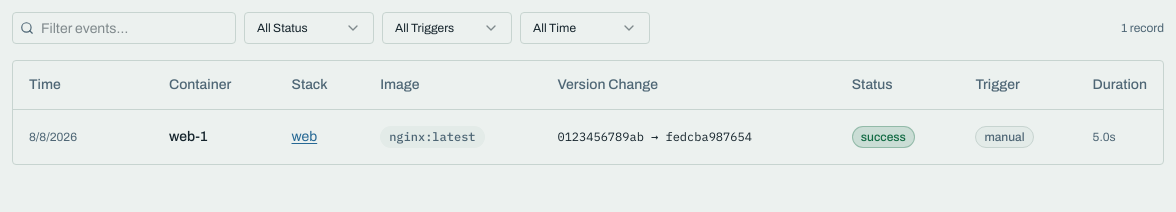
Test: UpdateLogTab — filters › says so when the free-text filter matches nothing
The image size is (1176, 212).
In the field with placeholder "Filter events…": {"x": 124, "y": 28} left=12, top=12, right=236, bottom=44, type "zzz"
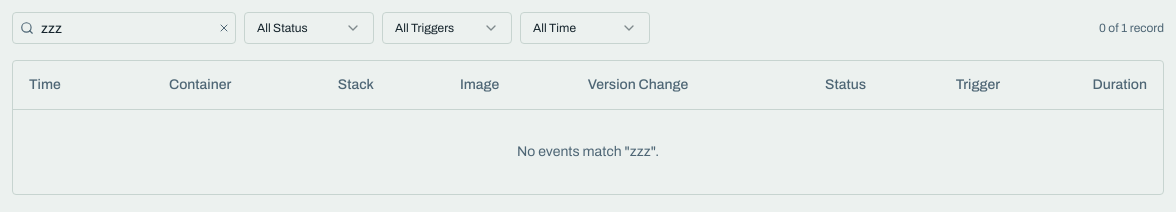
Expected: the text "No events match \"zzz\"." is shown, left=13, top=109, right=1163, bottom=194
